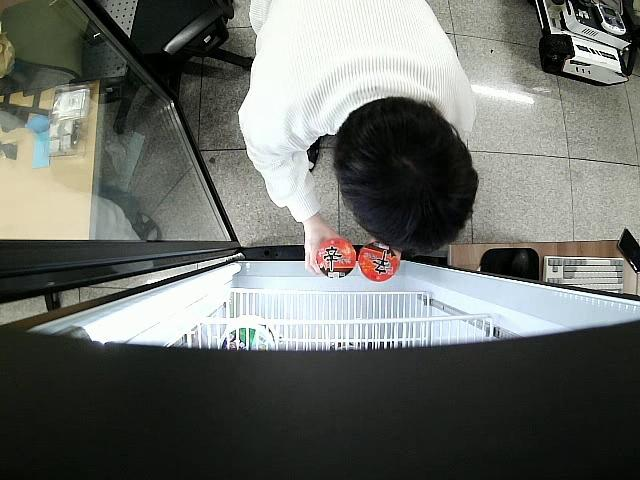00_hand: (302, 219, 341, 276)
02_shinRamen_S: (314, 236, 355, 279), (359, 240, 399, 283)
